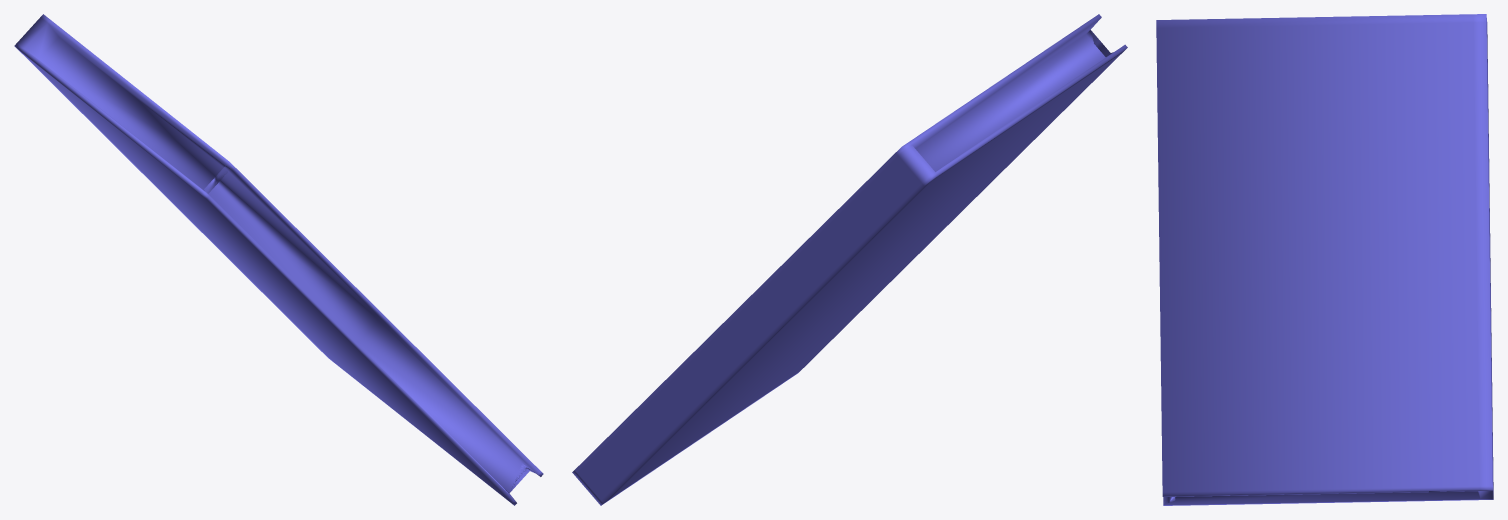
Rendered from Book_11.fbx.
3 views of the same model, side by side, from view 1: azimuth 30°, elevation 25°; view 2: azimuth 150°, elevation 25°; view 3: azimuth 270°, elevation 25° (orthographic). The views are drawn at different scales.
Visible parts, largest first — view 1: Book_11; view 2: Book_11; view 3: Book_11.
Boxes of the visible parts, x1,y1,x2,y2 form: Book_11: [14, 14, 543, 505]; Book_11: [572, 14, 1127, 505]; Book_11: [1156, 14, 1493, 505].
Size of the model in its own units: 20.34 by 23.72 by 19.57.
